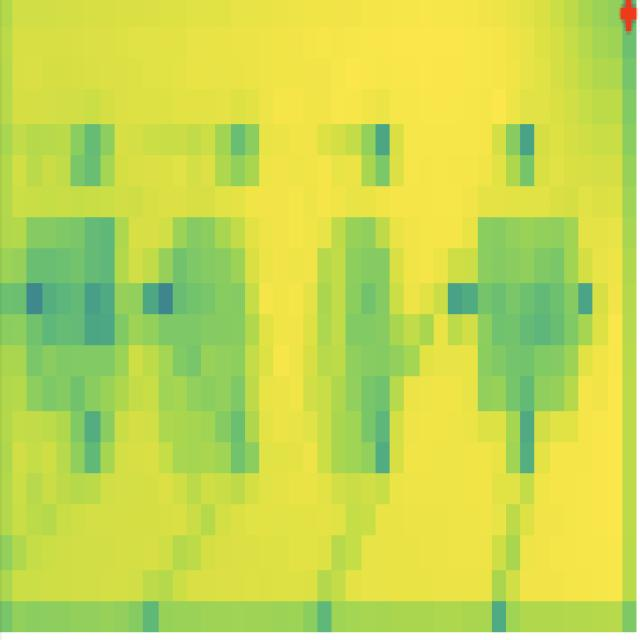Concrete: (150, 193, 272, 502)
Glass: (16, 181, 136, 450)
Metal: (307, 211, 417, 502)
Wood: (465, 197, 585, 468)
